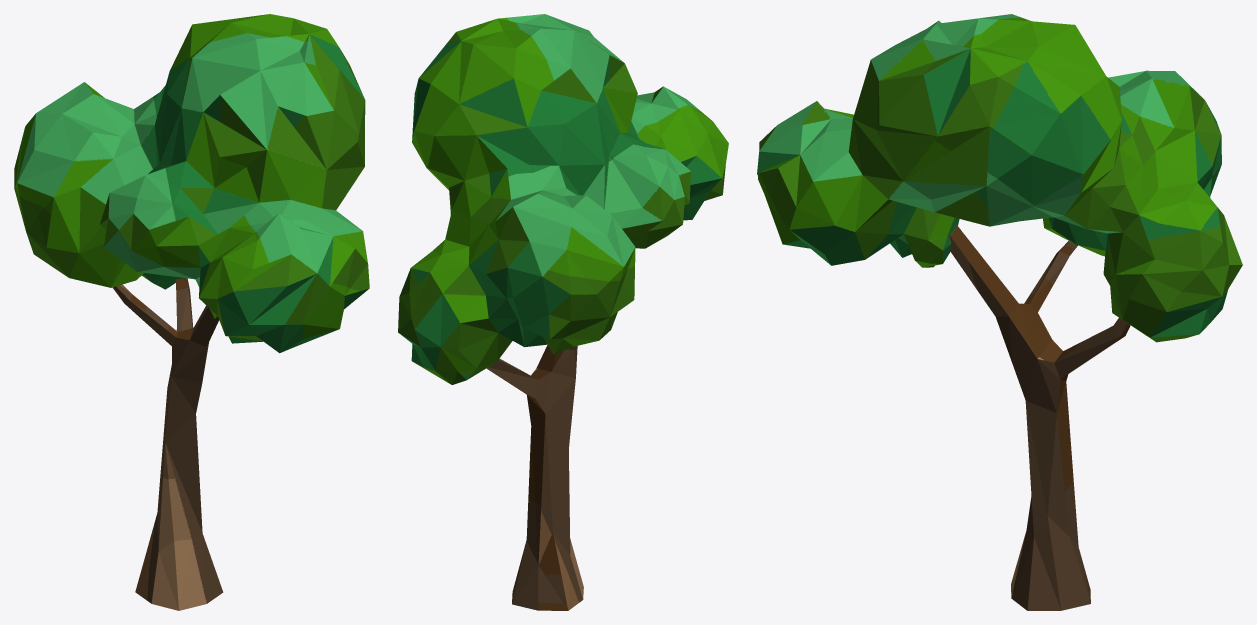
Rendered from Tree4.gltf.
The picture shows the model from 3 angles, left to right: view 1: azimuth 30°, elevation 25°; view 2: azimuth 150°, elevation 25°; view 3: azimuth 270°, elevation 25°; orthographic projection. The views are drawn at different scales.
Visible parts, largest first — view 1: _3_tree_Sphere.007; view 2: _3_tree_Sphere.007; view 3: _3_tree_Sphere.007.
Boxes of the visible parts, left/top/right/bottom form: _3_tree_Sphere.007: left=14, top=14, right=369, bottom=610; _3_tree_Sphere.007: left=398, top=14, right=728, bottom=610; _3_tree_Sphere.007: left=757, top=14, right=1242, bottom=610.
Size of the model in its own units: 0.7953 by 1.58 by 1.17.
Materials: 1 (1 with a texture image).
